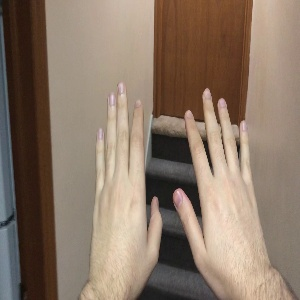hand: (173, 90, 270, 277), (94, 82, 163, 289)
